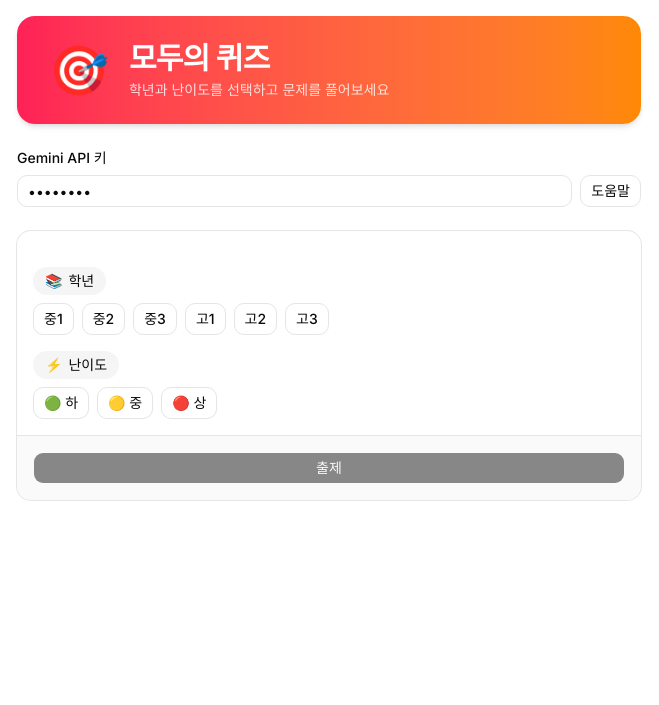
Test case: QuizPage › 제출 → 과목별 정오·해설·점수 + 총점 표시
Click the radio button labelled "중2".
click(103, 319)  # box [82,303,125,335]
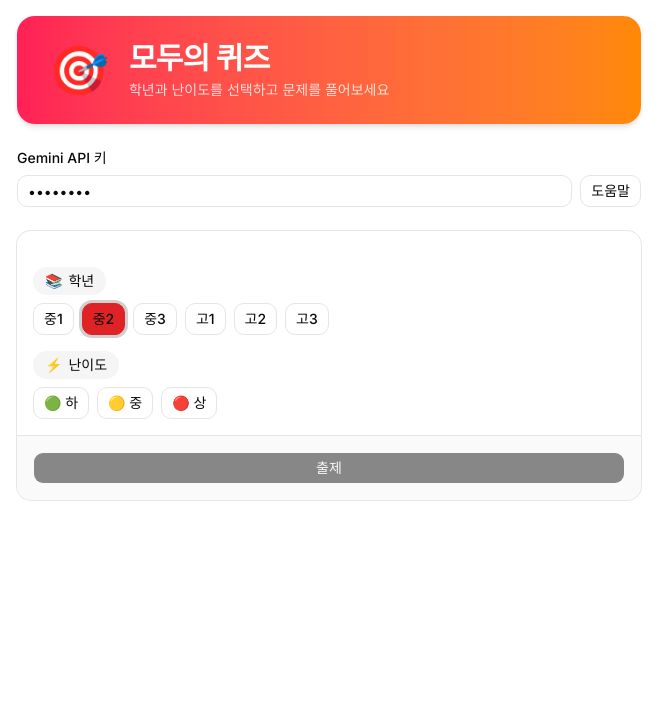
Click the radio button labelled "중".
click(125, 403)  # box [97,387,153,419]
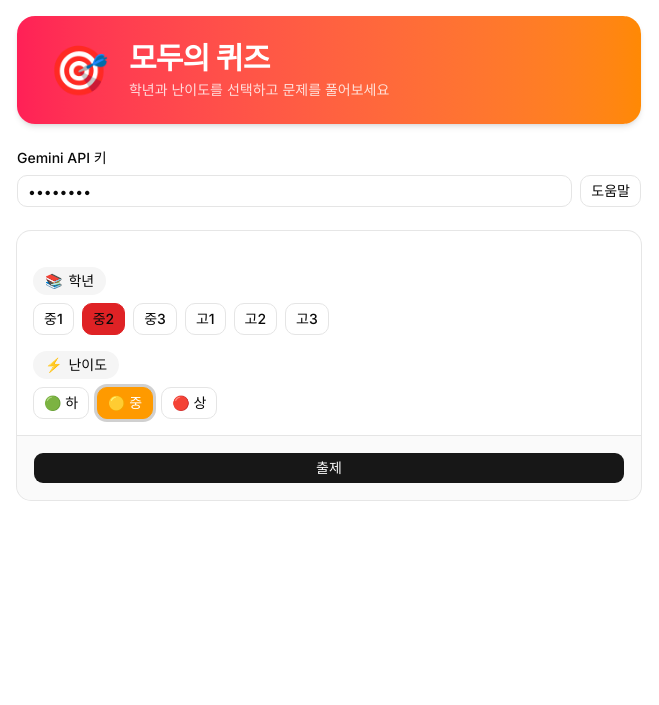
Click the button "출제".
click(329, 468)  # box [33,452,625,484]
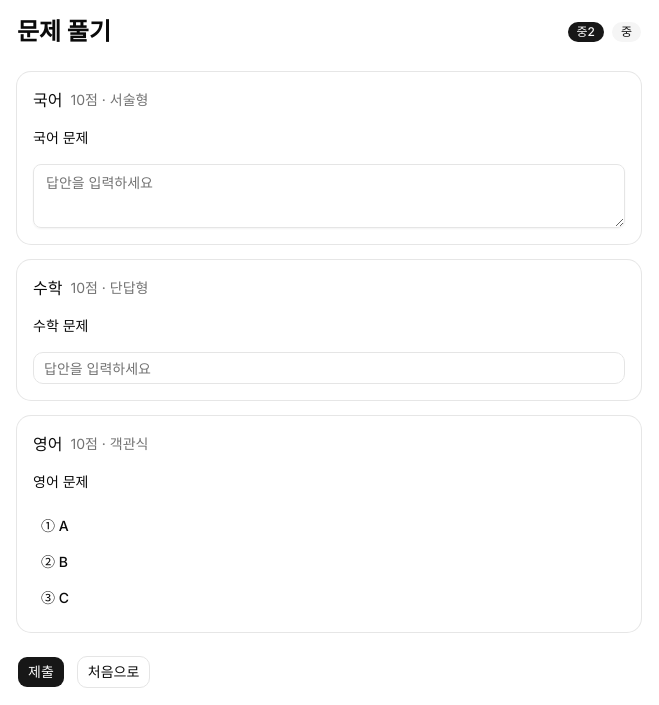
Expected: the text "국어 문제" is shown, [33,129,88,146]
Click the button "제출".
click(41, 672)  # box [17,656,65,688]
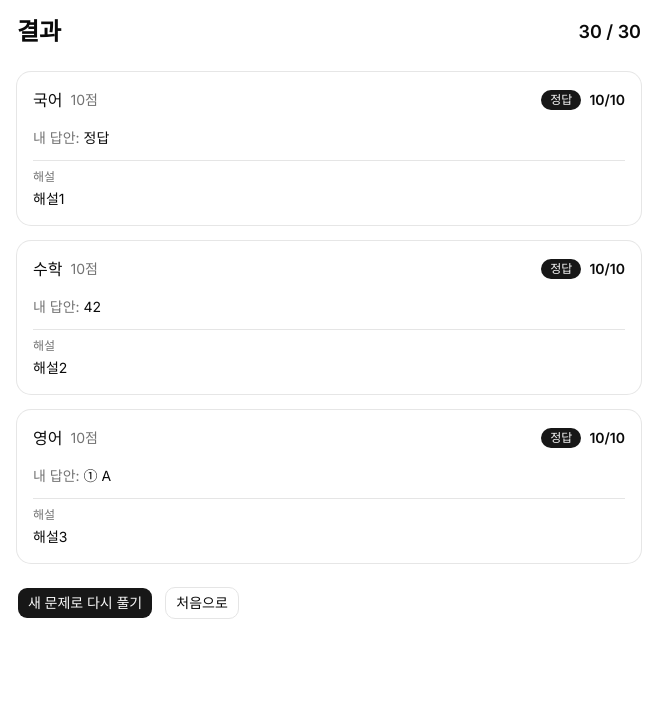
Expected: the text "30 / 30" is shown, [578,18,641,46]
